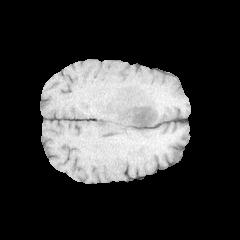glioma: (102, 84, 173, 137)
